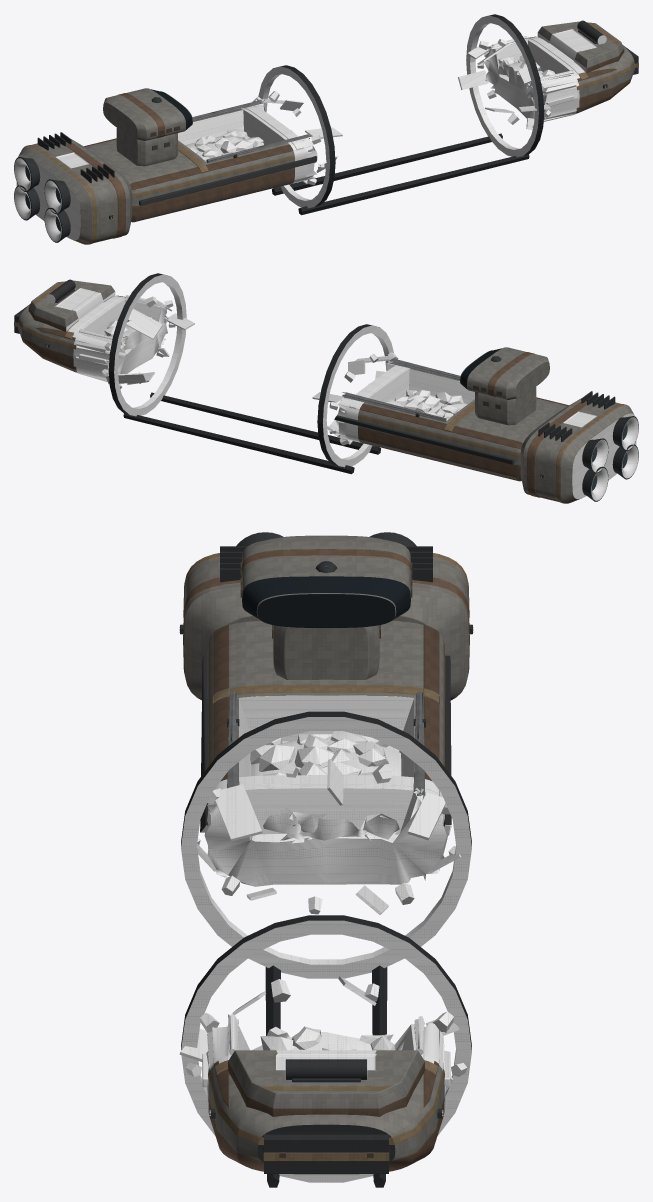
The model's file is wreck_mining_barge.glb.
3 views of the same model, one above another, from view 1: azimuth 30°, elevation 25°; view 2: azimuth 150°, elevation 25°; view 3: azimuth 270°, elevation 25° (orthographic). The views are drawn at different scales.
Visible parts, largest first — view 1: Hull, Drive, Hull.001, Bridge, BinRing1, Forecastle, BinRing0, KeelChord1, TowerBase, KeelChord0, Strake_M, Nozzle-19_10 (+7 smaller); view 2: Hull, Drive, Hull.001, Bridge, BinRing1, Forecastle, BinRing0, KeelChord0, TowerBase, KeelChord1, Strake, Nozzle19_10 (+8 smaller); view 3: Hull, BinRing0, Bridge, Hull.001, BinRing1, Drive, Forecastle, TowerBase, BowFender, woundFore_t_tear6, Windlass, KeelChord0 (+5 smaller).
Part boxes in pixels (left/top/right/bottom): Hull: left=84, top=103, right=317, bottom=222; Drive: left=16, top=139, right=132, bottom=244; Hull.001: left=484, top=36, right=634, bottom=121; Bridge: left=103, top=88, right=192, bottom=140; BinRing1: left=466, top=14, right=544, bottom=157; Forecastle: left=537, top=21, right=624, bottom=72; BinRing0: left=258, top=65, right=335, bottom=208; KeelChord1: left=298, top=154, right=529, bottom=215; TowerBase: left=116, top=128, right=178, bottom=166; KeelChord0: left=272, top=133, right=502, bottom=195; Strake_M: left=139, top=156, right=316, bottom=205; Nozzle-19_10: left=44, top=179, right=70, bottom=214; Hull: left=335, top=363, right=568, bottom=481; Drive: left=520, top=398, right=636, bottom=503; Hull.001: left=18, top=295, right=168, bottom=381; Bridge: left=460, top=347, right=549, bottom=399; BinRing1: left=108, top=273, right=186, bottom=416; Forecastle: left=28, top=280, right=115, bottom=331; BinRing0: left=317, top=324, right=393, bottom=467; KeelChord0: left=123, top=413, right=354, bottom=474; TowerBase: left=474, top=387, right=536, bottom=425; KeelChord1: left=150, top=392, right=380, bottom=454; Strake: left=334, top=415, right=513, bottom=464; Nozzle19_10: left=582, top=438, right=608, bottom=473; Hull: left=204, top=621, right=447, bottom=886; BinRing0: left=181, top=711, right=471, bottom=978; Bridge: left=241, top=535, right=411, bottom=627; Hull.001: left=206, top=1023, right=446, bottom=1174; BinRing1: left=181, top=915, right=471, bottom=1182; Drive: left=183, top=553, right=469, bottom=700; Forecastle: left=228, top=1050, right=424, bottom=1116; TowerBase: left=273, top=625, right=379, bottom=679; BowFender: left=263, top=1134, right=389, bottom=1173; woundFore_t_tear6: left=215, top=784, right=262, bottom=841; Windlass: left=285, top=1059, right=367, bottom=1079; KeelChord0: left=372, top=965, right=387, bottom=1187.
Size of the model in its own units: 147 by 33.23 by 31.91.
Materials: 17 (13 with a texture image).
